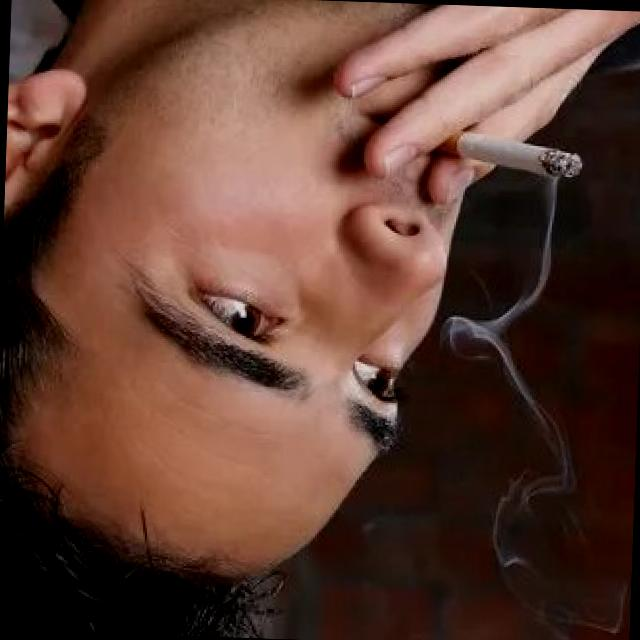smoke: (421, 121, 589, 188)
